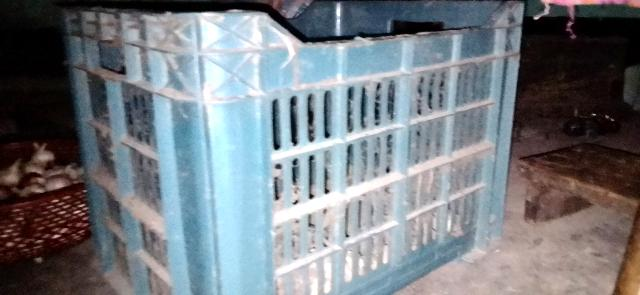hardplastic: (57, 6, 513, 288)
